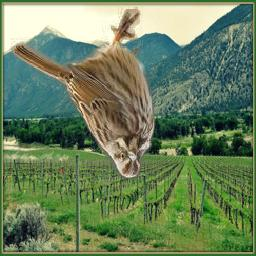Sparrow: (11, 7, 155, 179)
